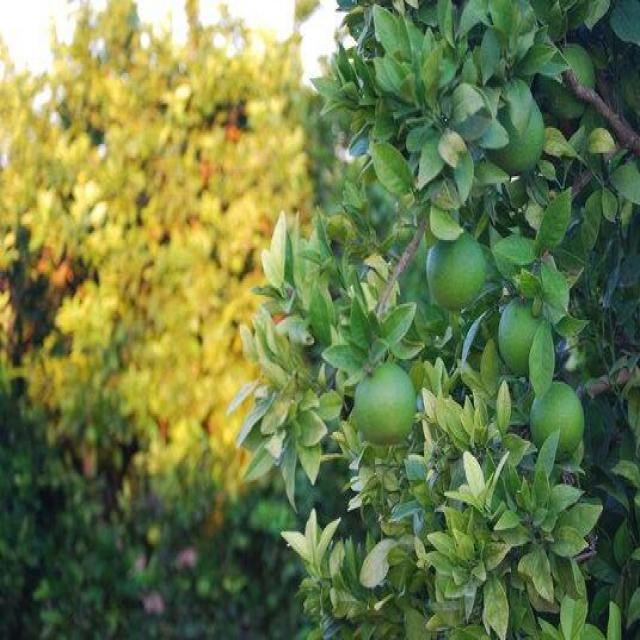Jeruk Belum Matang: (356, 361, 416, 446), (424, 231, 485, 309), (496, 98, 548, 176), (548, 39, 595, 121), (530, 384, 584, 455), (498, 298, 546, 369)
